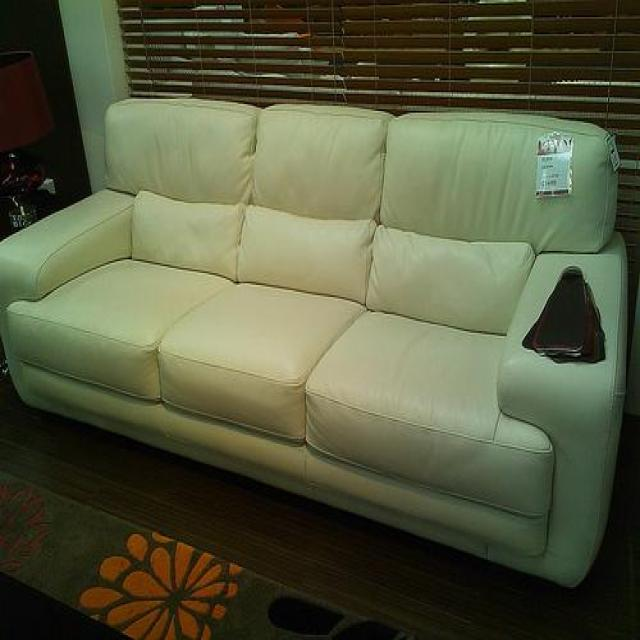sofa: (1, 94, 631, 591)
